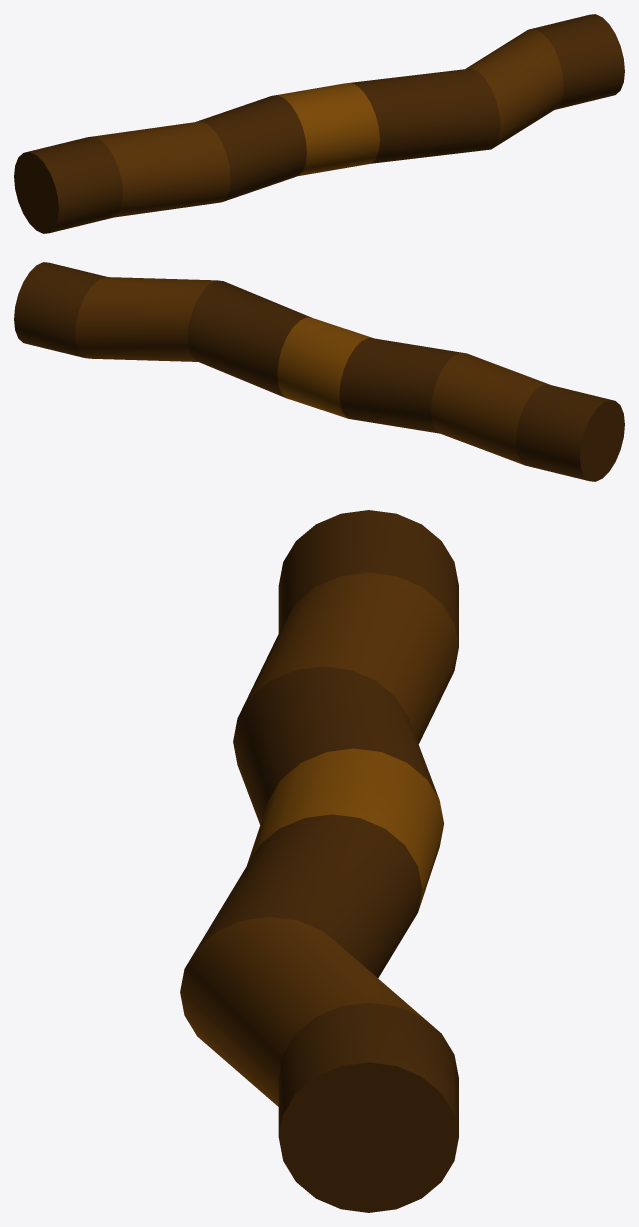
The model's file is Final rope.fbx.
The picture shows the model from 3 angles, top to bottom: view 1: azimuth 30°, elevation 25°; view 2: azimuth 150°, elevation 25°; view 3: azimuth 270°, elevation 25°; orthographic projection. The views are drawn at different scales.
Visible parts, largest first — view 1: pCylinder1; view 2: pCylinder1; view 3: pCylinder1.
Part boxes in pixels (left/top/right/bottom): pCylinder1: left=14, top=14, right=624, bottom=233; pCylinder1: left=14, top=262, right=624, bottom=481; pCylinder1: left=180, top=510, right=458, bottom=1212.
Bounding box in the file's own units: 0.6973 × 0.0887 × 0.1488.
